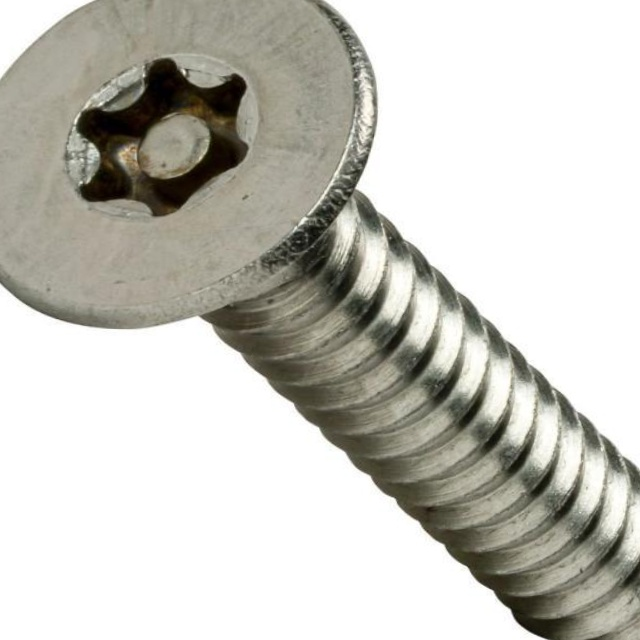torx: (0, 0, 387, 335)
